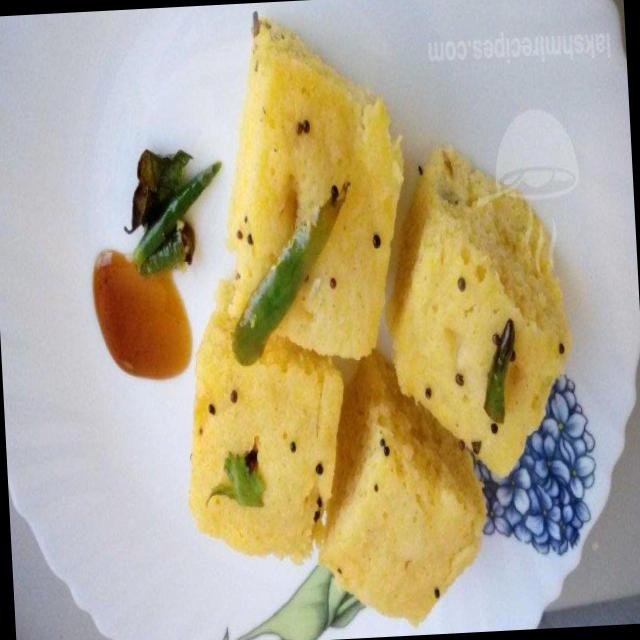dhokla: (177, 73, 578, 640)
